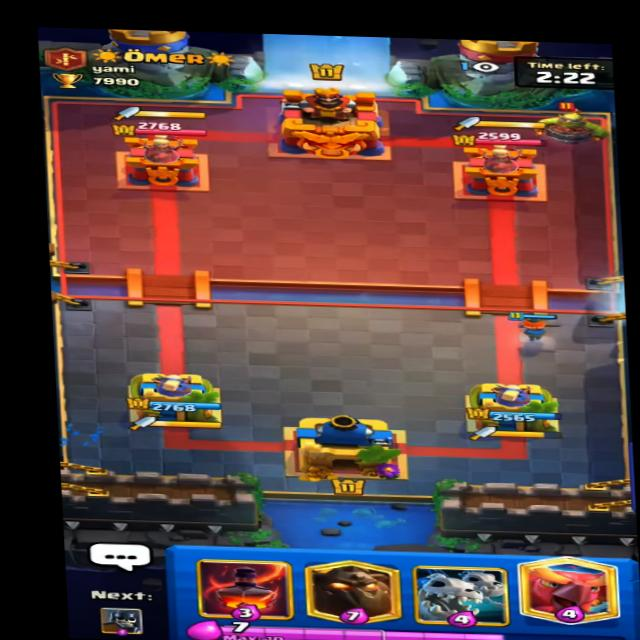goblin-demolisher: (533, 97, 612, 145)
